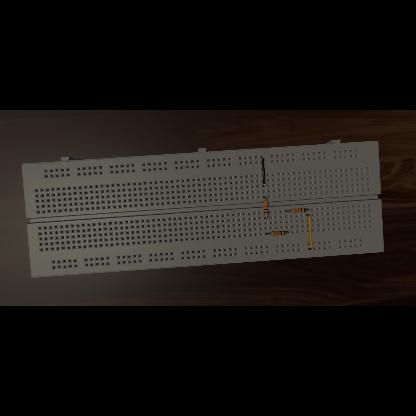breadboard: (22, 140, 384, 278)
resistor: (292, 208, 306, 214), (263, 201, 268, 215), (272, 232, 286, 236)
wire: (306, 214, 312, 250), (261, 157, 265, 187), (265, 233, 271, 235), (265, 216, 267, 219), (264, 198, 266, 200), (287, 232, 289, 234), (307, 209, 309, 210)
